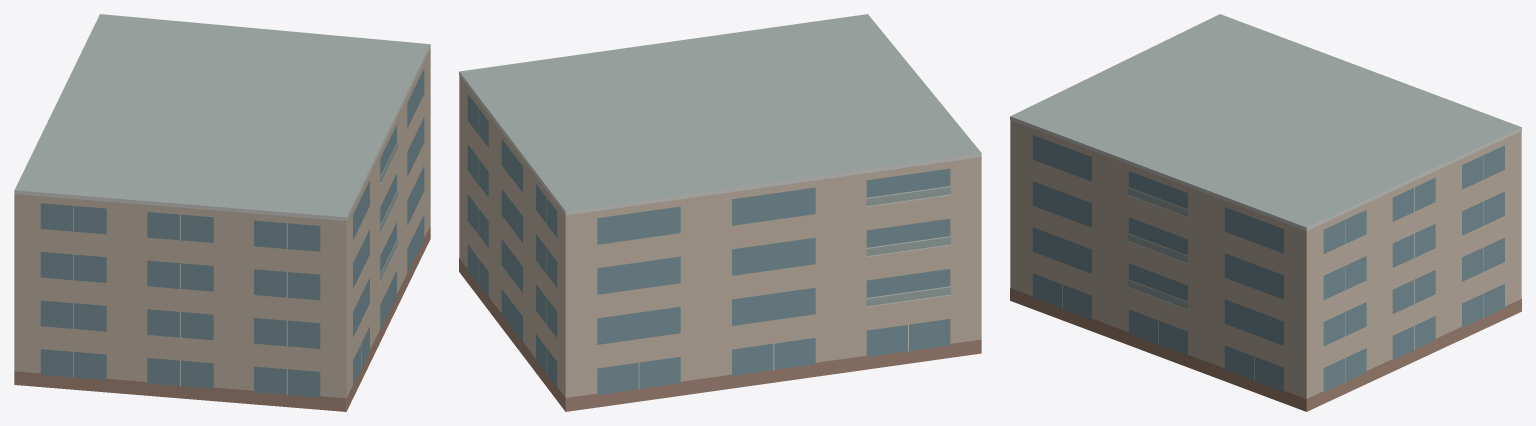
File: survey-upis-32523856.glb
The picture shows the model from 3 angles, left to right: view 1: azimuth 30°, elevation 25°; view 2: azimuth 150°, elevation 25°; view 3: azimuth 270°, elevation 25°; orthographic projection. The views are drawn at different scales.
Parts seen in each view (by area): view 1: survey-upis-32523856.tmp; view 2: survey-upis-32523856.tmp; view 3: survey-upis-32523856.tmp.
Part boxes in pixels (x1,y1,x2,y2): survey-upis-32523856.tmp: (14, 14, 430, 411); survey-upis-32523856.tmp: (459, 14, 981, 411); survey-upis-32523856.tmp: (1010, 14, 1521, 411).
Size of the model in its own units: 31.06 by 12.5 by 31.44.
